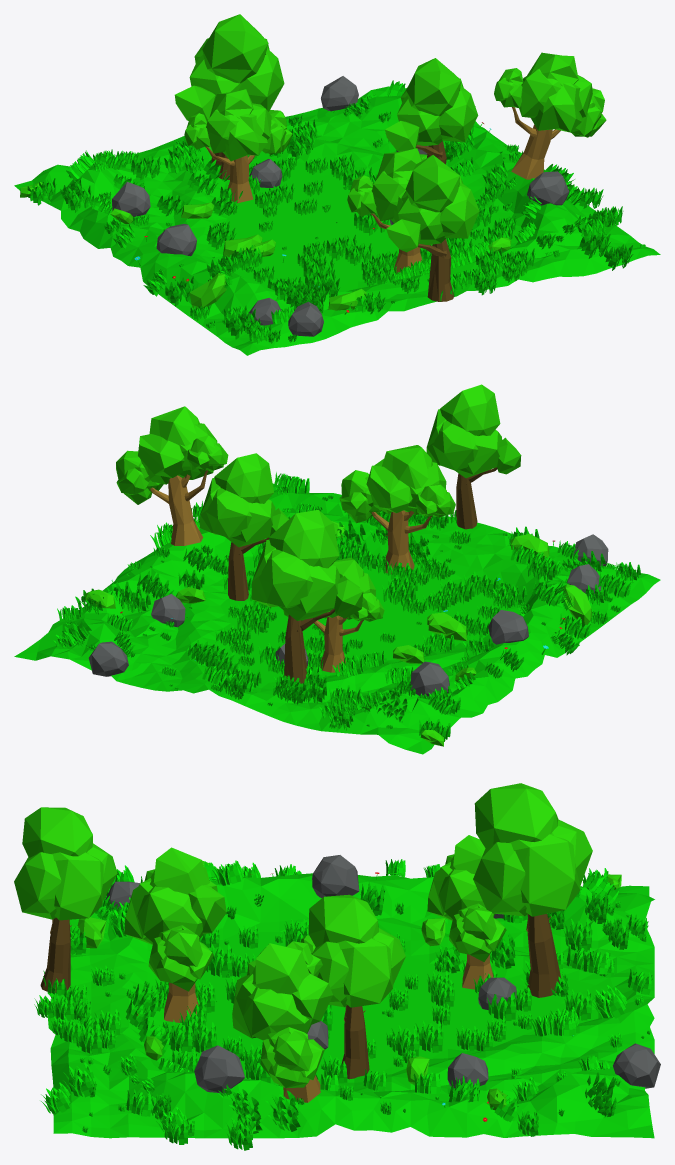
Rendered from Example Terrain #1.fbx.
3 renders of one model, top to bottom at view 1: azimuth 30°, elevation 25°; view 2: azimuth 150°, elevation 25°; view 3: azimuth 270°, elevation 25°, orthographic. The views are drawn at different scales.
Parts seen in each view (by area): view 1: Example Terrain #1; view 2: Example Terrain #1; view 3: Example Terrain #1.
Boxes of the visible parts, x1,y1,x2,y2 form: Example Terrain #1: (14, 14, 660, 355); Example Terrain #1: (14, 384, 660, 754); Example Terrain #1: (14, 783, 660, 1150).
Size of the model in its own units: 2762 by 977 by 2667.
